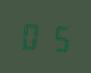five: (45, 20, 70, 54)
zero: (19, 18, 44, 52)
